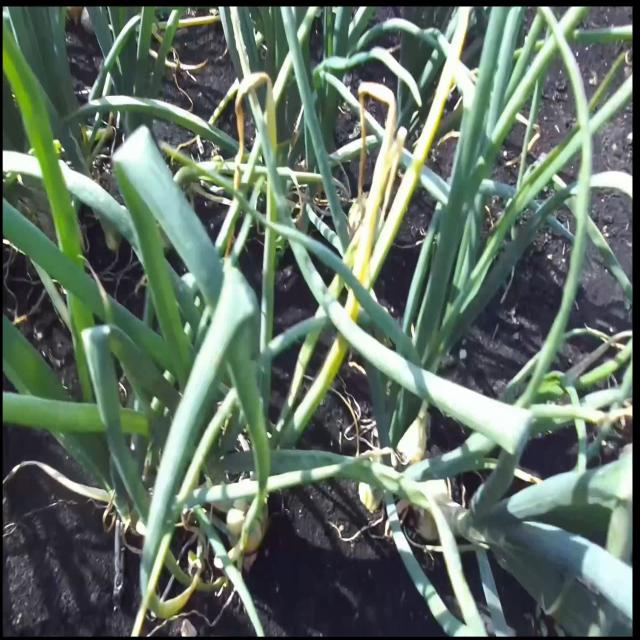onion: (224, 486, 268, 559)
